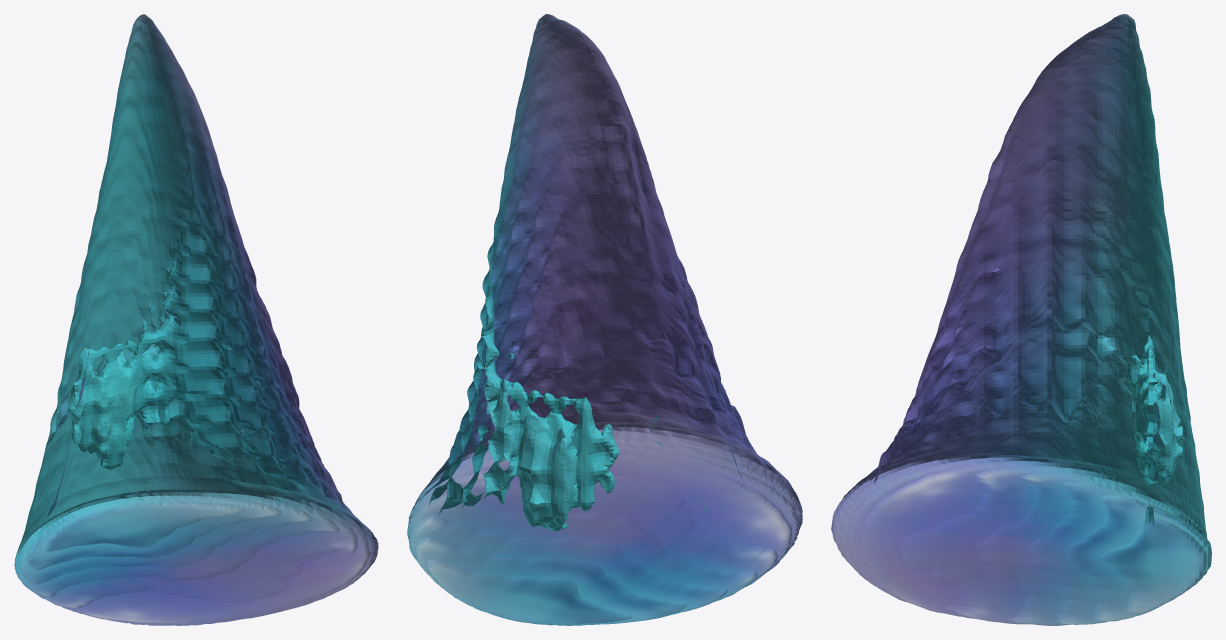
The picture shows the model from 3 angles, left to right: view 1: azimuth 30°, elevation 25°; view 2: azimuth 150°, elevation 25°; view 3: azimuth 270°, elevation 25°; orthographic projection. The views are drawn at different scales.
Visible parts, largest first — view 1: geometry_0; view 2: geometry_0; view 3: geometry_0.
Part boxes in pixels (x1,y1,x2,y2): geometry_0: [14, 14, 378, 625]; geometry_0: [407, 14, 802, 625]; geometry_0: [831, 14, 1211, 625].
Size of the model in its own units: 0.9972 by 1.6 by 1.
